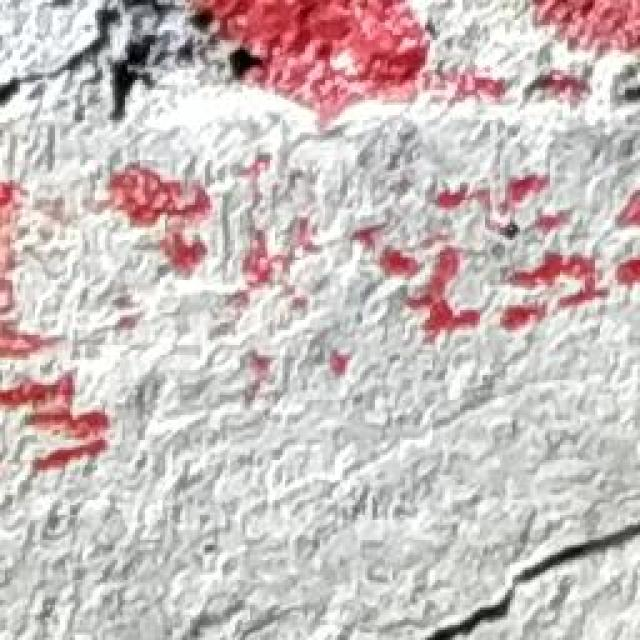Diagonal: (368, 486, 640, 640)
Rippled: (0, 0, 640, 471)
